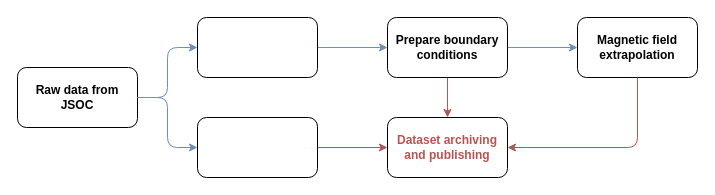
Image size: 715x195. Some labels were removed from this diagram. Here are the shapes that lost their labels. From the top down, the box of each, then its label:
(196, 16, 318, 78): Downloading raw data
(196, 116, 318, 178): Labelling solar flare
